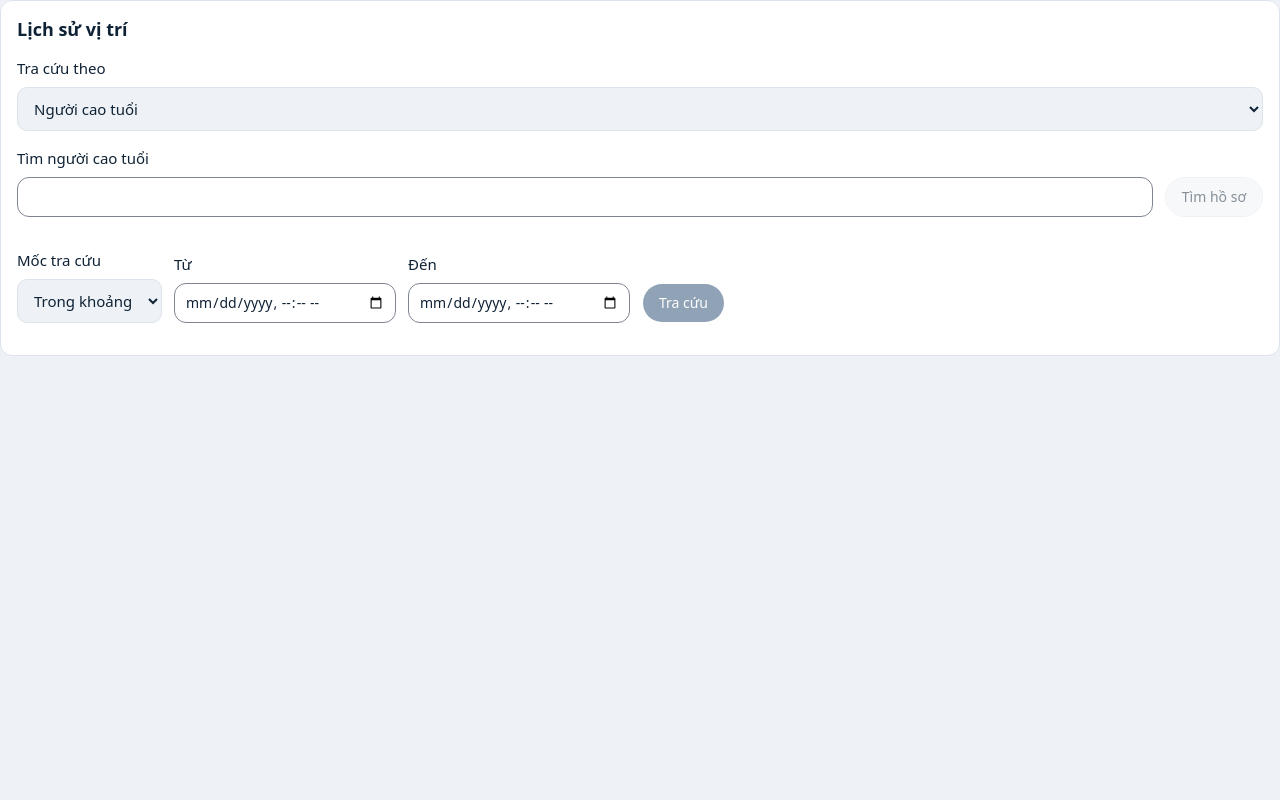
Test: FR_037_queryFailureClearsPreviousResults
This screenshot has width=1280, height=800.
In the field labelled "Tìm người cao tuổi": x=585, y=197 [17,177,1153,217], type "NCT12"
Click the button "Tìm hồ sơ": x=1214, y=197 [1165,177,1263,217]
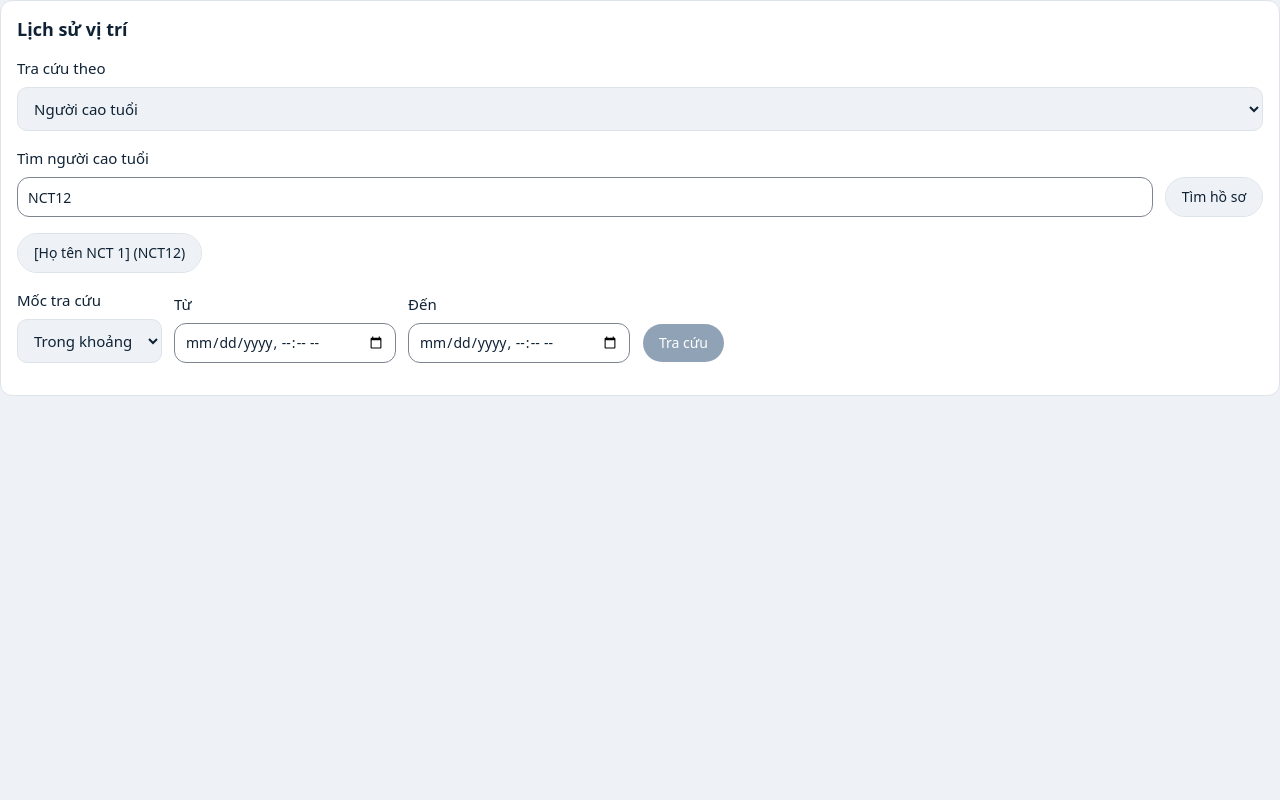
Click the button with aria-label "Chọn NCT12": x=110, y=253 [17,233,202,273]
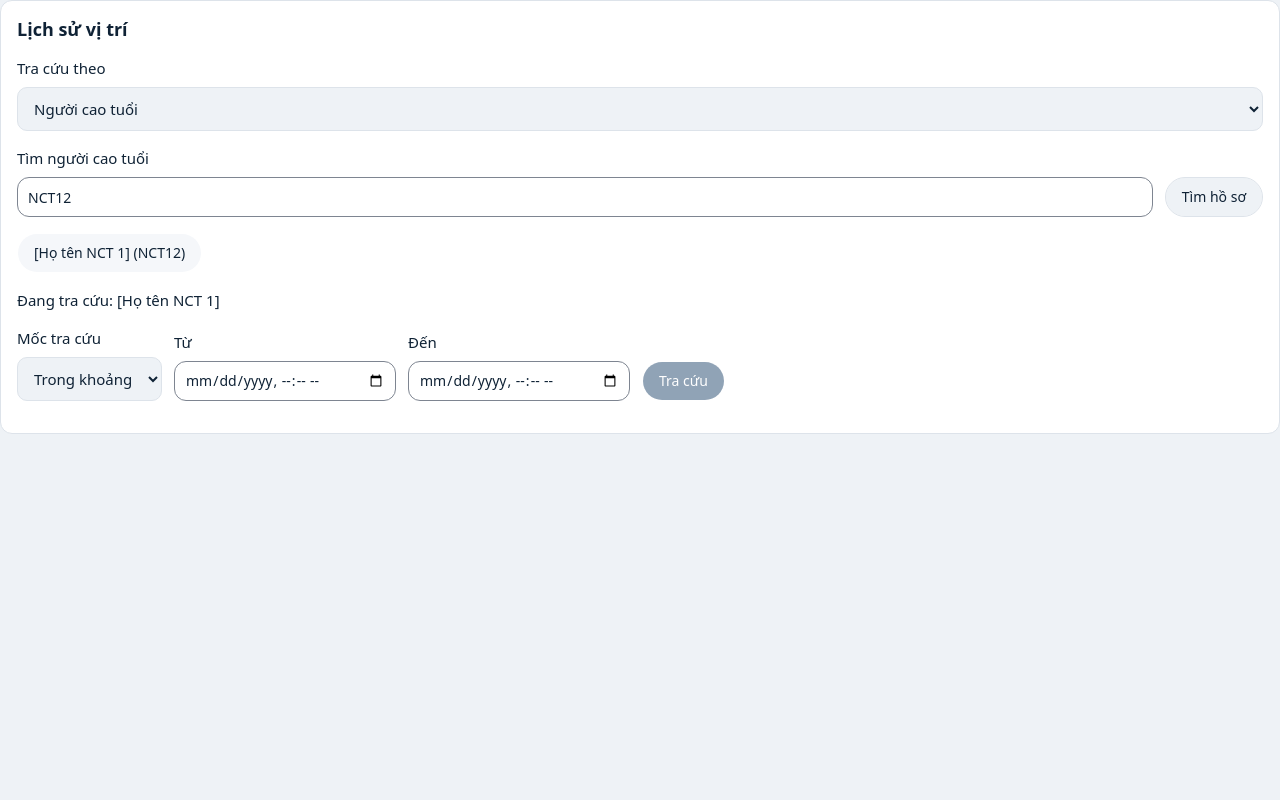
In the field labelled "Từ": x=285, y=381 [174,361,396,401], type "2026-01-01T07:00"
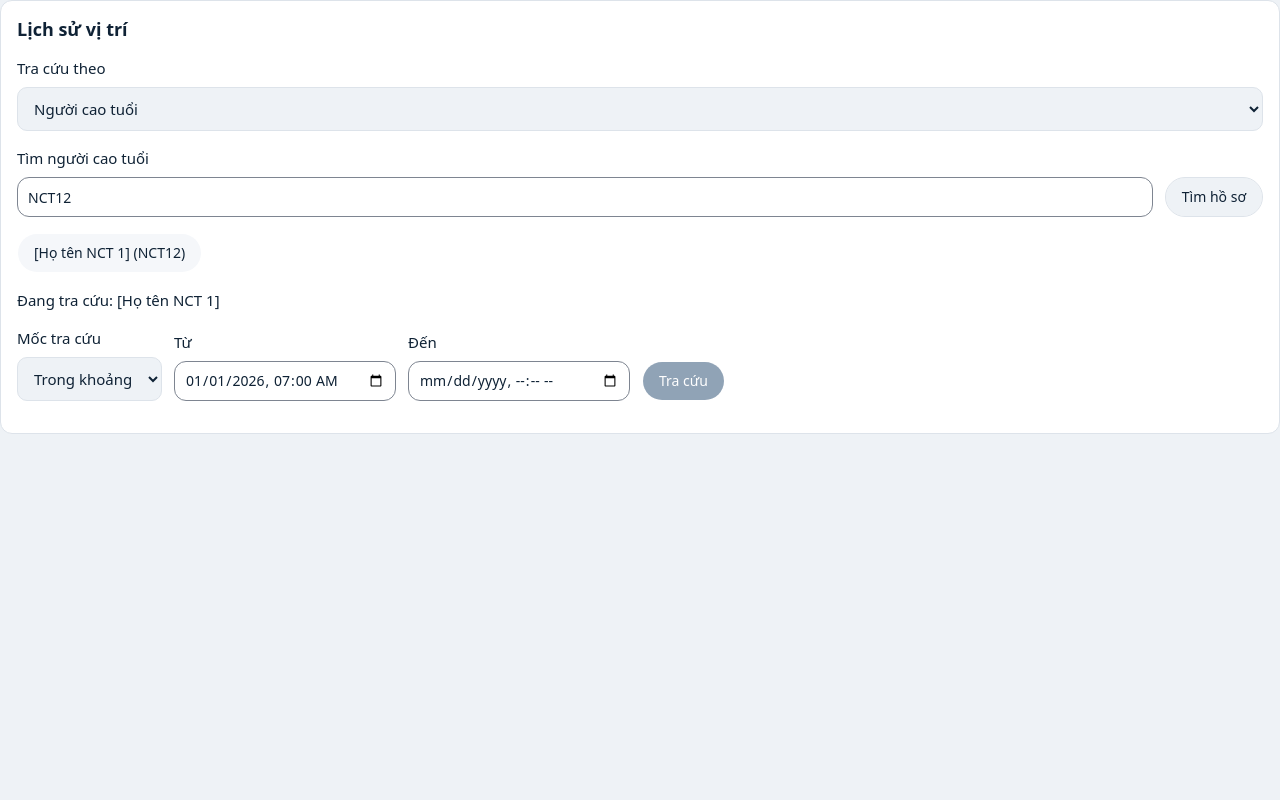
In the field labelled "Đến": x=519, y=381 [408,361,630,401], type "2026-01-02T07:00"
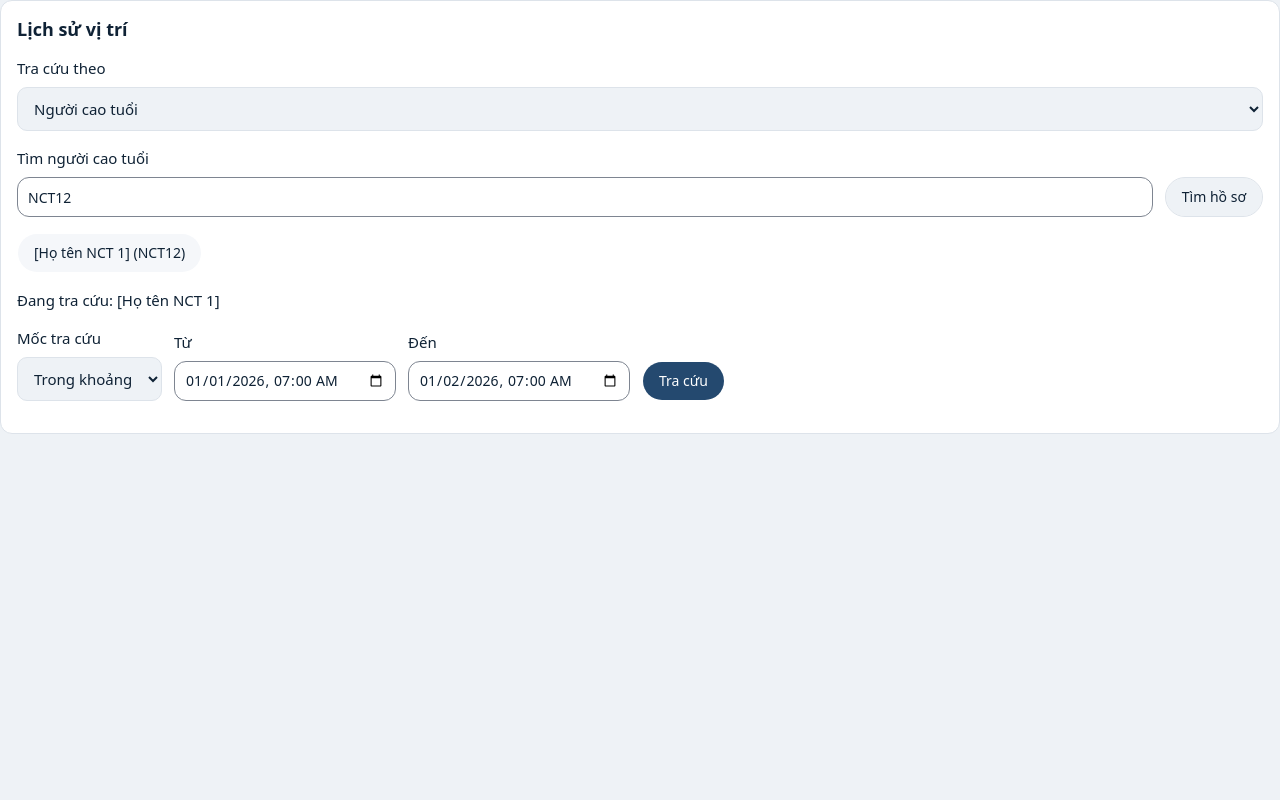
Click the button "Tra cứu": x=683, y=381 [642,361,725,401]
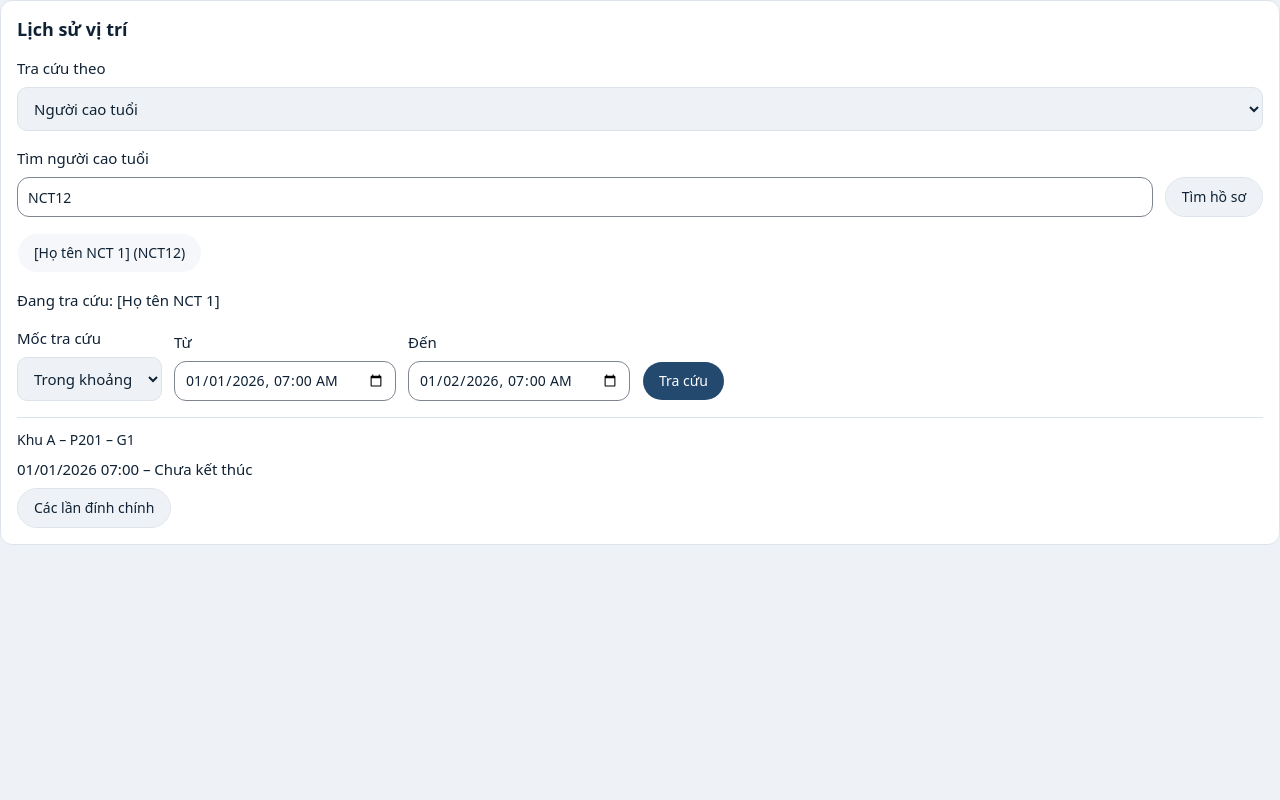
Result: the text "Khu A – P201 – G1" is shown at [17,430,135,449]
Click the button "Tra cứu": x=683, y=381 [642,361,725,401]
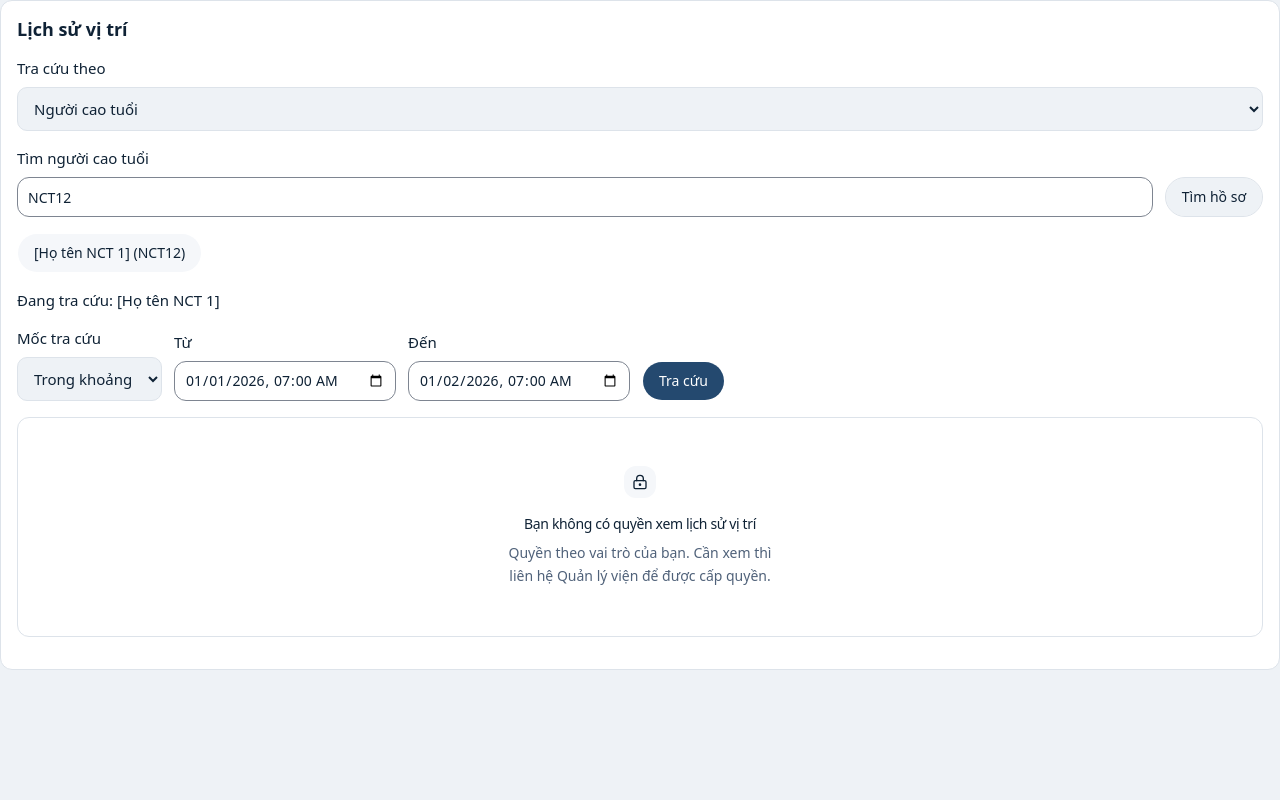
Result: the text "Bạn không có quyền xem lịch sử vị trí" is shown at [524,514,756,534]
Result: the text "Khu A – P201 – G1" is gone
